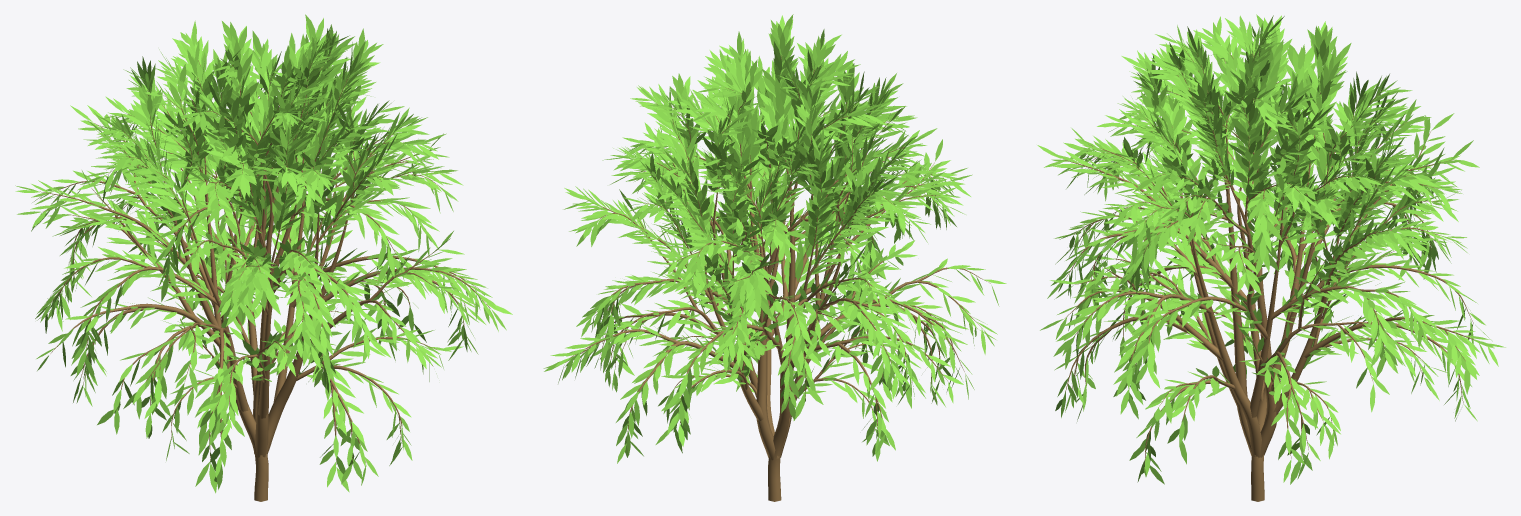
File: trees2.fbx
3 renders of one model, left to right at view 1: azimuth 30°, elevation 25°; view 2: azimuth 150°, elevation 25°; view 3: azimuth 270°, elevation 25°, orthographic. The views are drawn at different scales.
Visible parts, largest first — view 1: leaves, tree; view 2: leaves, tree; view 3: leaves, tree.
Boxes of the visible parts, <box> form: leaves: <box>15,14,512,493</box>; tree: <box>40,52,490,501</box>; leaves: <box>543,14,1006,463</box>; tree: <box>565,55,990,501</box>; leaves: <box>1037,14,1505,484</box>; tree: <box>1063,39,1474,501</box>.
Size of the model in its own units: 5.78 by 6.82 by 6.05.
